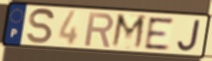4: (57, 9, 82, 48)
E: (143, 16, 175, 51)
J: (176, 18, 202, 53)
M: (109, 12, 148, 52)
R: (83, 11, 116, 49)
S: (26, 7, 56, 46)
